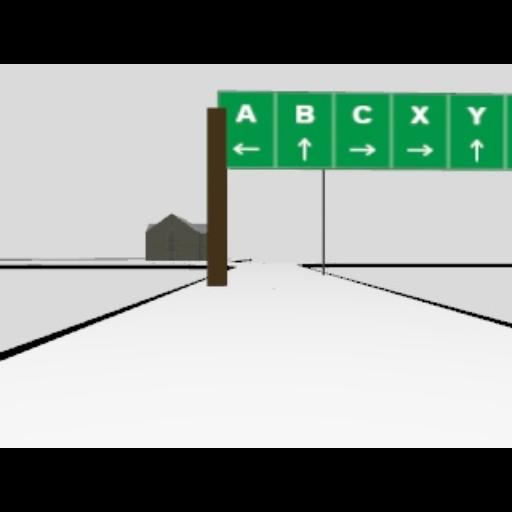A: (236, 102, 256, 124)
B: (294, 104, 314, 124)
C: (352, 104, 372, 124)
Left: (231, 142, 261, 156)
Right: (348, 142, 376, 156), (404, 144, 432, 156)
Straight: (296, 136, 312, 160), (469, 138, 483, 162)
X: (410, 104, 428, 124)
Y: (466, 106, 486, 124)
